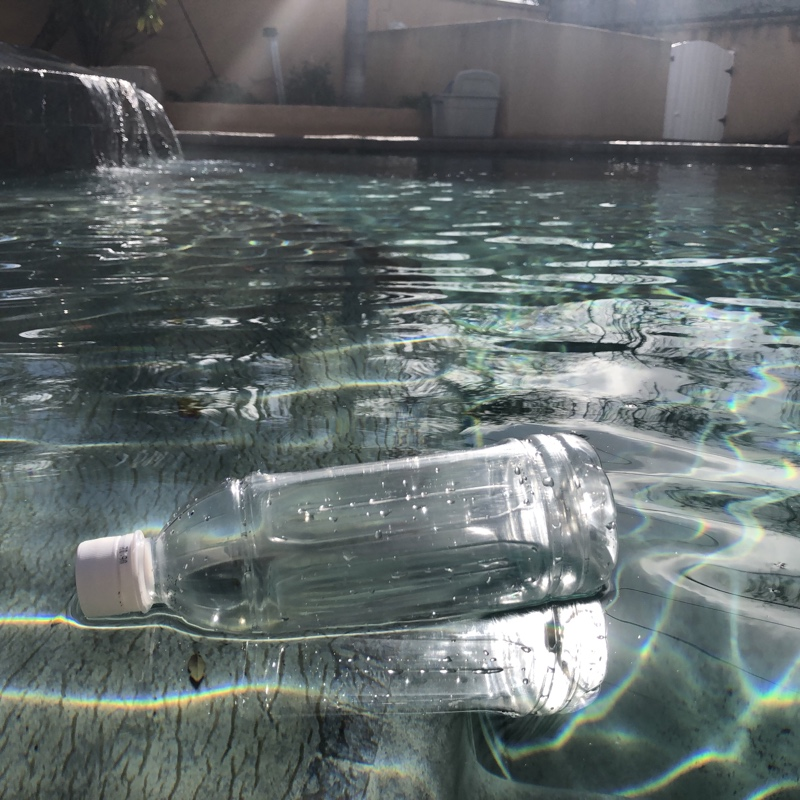Plastic Bottle: (64, 426, 622, 641)
